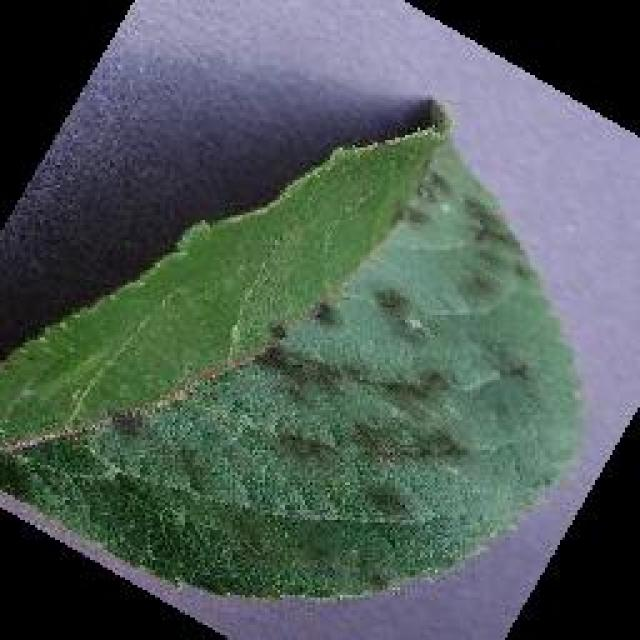apple scab disease: (0, 98, 588, 602)
